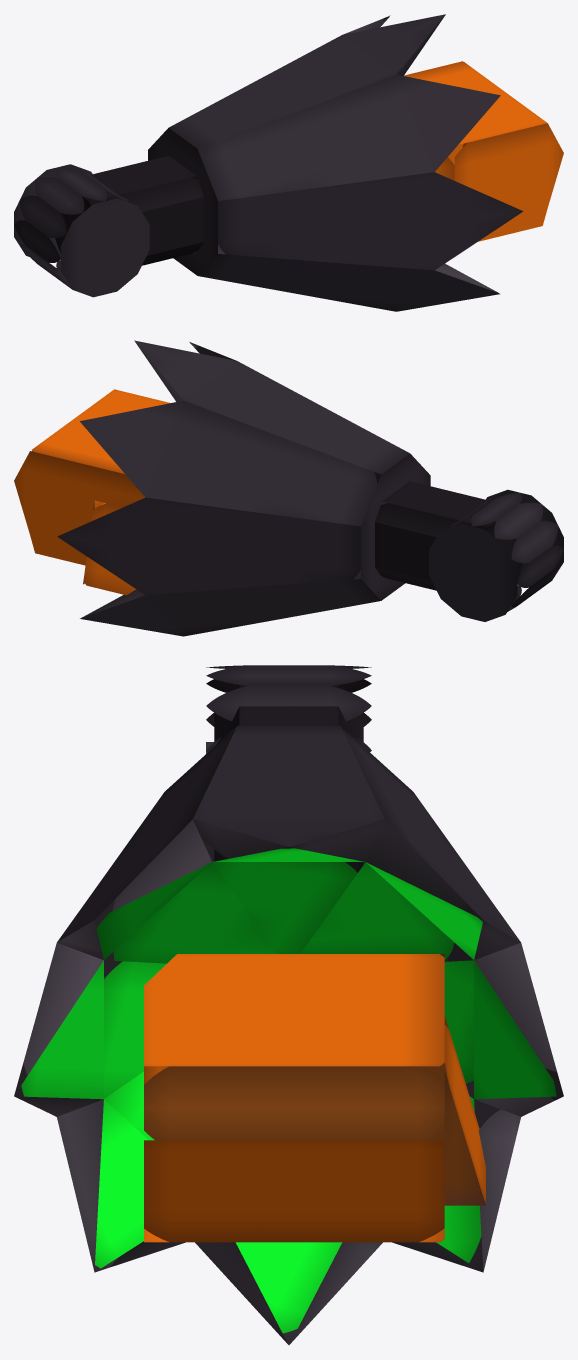
File: WiccanRightArm.obj
3 renders of one model, top to bottom at view 1: azimuth 30°, elevation 25°; view 2: azimuth 150°, elevation 25°; view 3: azimuth 270°, elevation 25°, orthographic. The views are drawn at different scales.
Parts seen in each view (by area): view 1: cylinder, cuboid, Arm; view 2: cylinder, cuboid, Arm; view 3: cylinder, cuboid, Arm.
Part boxes in pixels (x1,y1,x2,y2): cylinder: (14,14,523,311); cuboid: (404,61,563,241); Arm: (55,155,203,265); cylinder: (57,340,563,636); cuboid: (14,389,170,595); Arm: (375,481,522,590); cylinder: (14,665,563,1344); cuboid: (144,954,485,1242); Arm: (214,684,363,872).
Bounding box in the file's own units: 0.75 × 0.4145 × 0.4145.
Materials: 1 (1 with a texture image).
